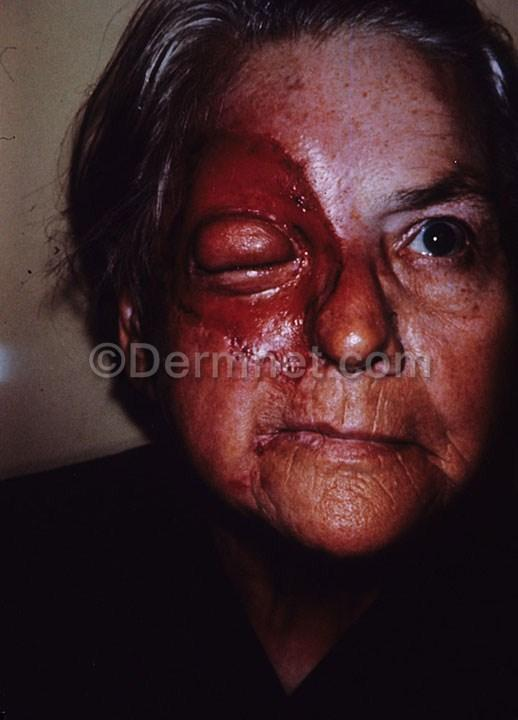Eczema: (187, 129, 272, 211), (232, 349, 287, 418), (241, 288, 305, 347), (263, 156, 316, 217), (294, 206, 344, 266), (182, 289, 233, 346), (272, 344, 327, 390), (260, 333, 307, 382), (299, 264, 343, 312)
